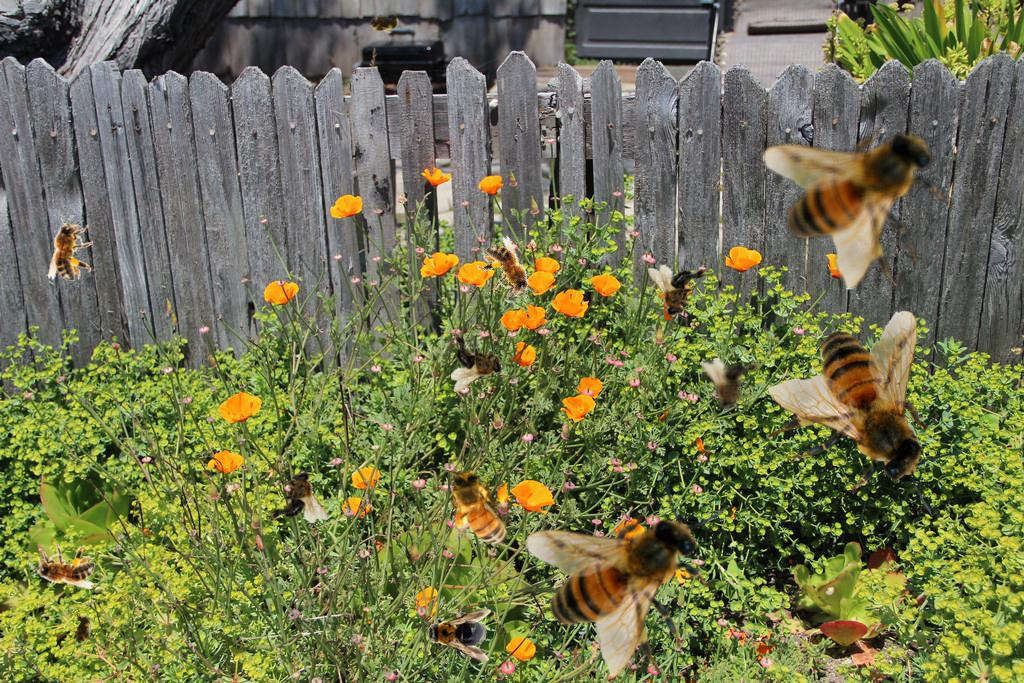Bee: (761, 302, 972, 518), (762, 91, 966, 290), (526, 477, 730, 676), (444, 464, 512, 557), (470, 233, 546, 314), (423, 609, 491, 661), (648, 265, 710, 318), (451, 330, 504, 392), (701, 358, 763, 411), (266, 470, 328, 523), (29, 544, 95, 589), (48, 215, 93, 281), (66, 608, 98, 652), (364, 12, 404, 34)
